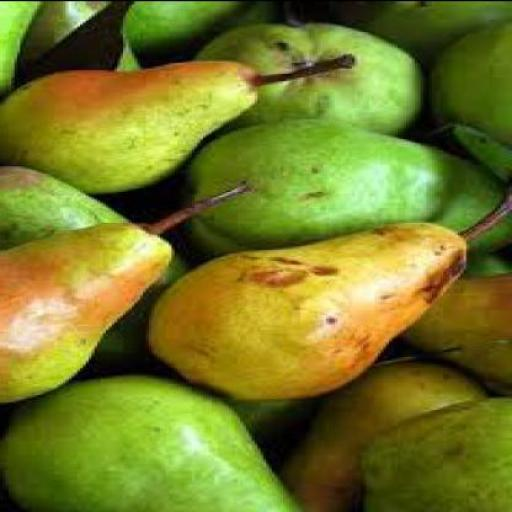biodegradable: (154, 193, 512, 403), (3, 181, 254, 405), (3, 60, 360, 200), (189, 120, 511, 263), (2, 374, 309, 511), (2, 166, 194, 368), (283, 363, 494, 511), (194, 26, 432, 138), (360, 396, 512, 510), (295, 2, 511, 71), (435, 18, 511, 174), (17, 2, 149, 85), (123, 2, 289, 67), (234, 401, 349, 474), (2, 2, 52, 94), (443, 123, 511, 190)
